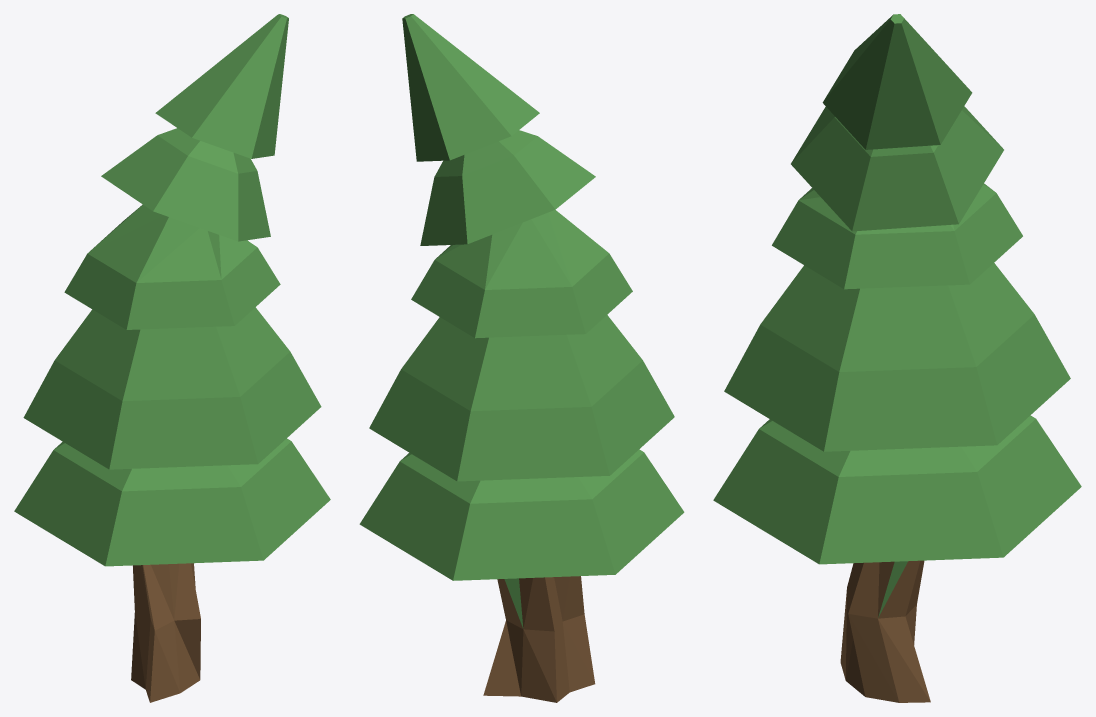
The model's file is tree3d-167.glb.
3 views of the same model, side by side, from view 1: azimuth 30°, elevation 25°; view 2: azimuth 150°, elevation 25°; view 3: azimuth 270°, elevation 25° (orthographic). The views are drawn at different scales.
Visible parts, largest first — view 1: tree3d-167; view 2: tree3d-167; view 3: tree3d-167.
Boxes of the visible parts, x1,y1,x2,y2 form: tree3d-167: [14, 14, 330, 702]; tree3d-167: [359, 14, 684, 702]; tree3d-167: [713, 14, 1081, 702].
Bounding box in the file's own units: 0.4131 × 1 × 0.4541.
